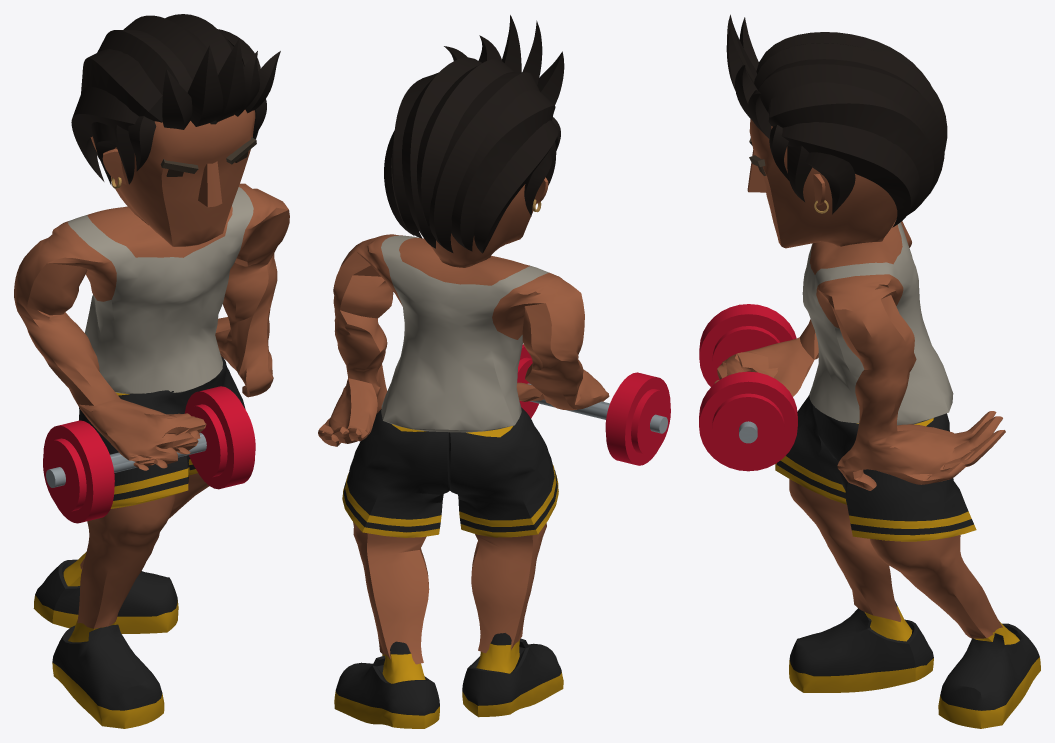
The model's file is av-halterofilista.glb.
The picture shows the model from 3 angles, left to right: view 1: azimuth 30°, elevation 25°; view 2: azimuth 150°, elevation 25°; view 3: azimuth 270°, elevation 25°; orthographic projection. The views are drawn at different scales.
Visible parts, largest first — view 1: Ad_halter_0_0; view 2: Ad_halter_0_0; view 3: Ad_halter_0_0.
Part boxes in pixels (x1,y1,x2,y2): Ad_halter_0_0: [14, 14, 289, 728]; Ad_halter_0_0: [318, 15, 670, 728]; Ad_halter_0_0: [699, 14, 1040, 728].
Size of the model in its own units: 0.6284 by 1.41 by 0.6409.
1 material, 1 textured.
